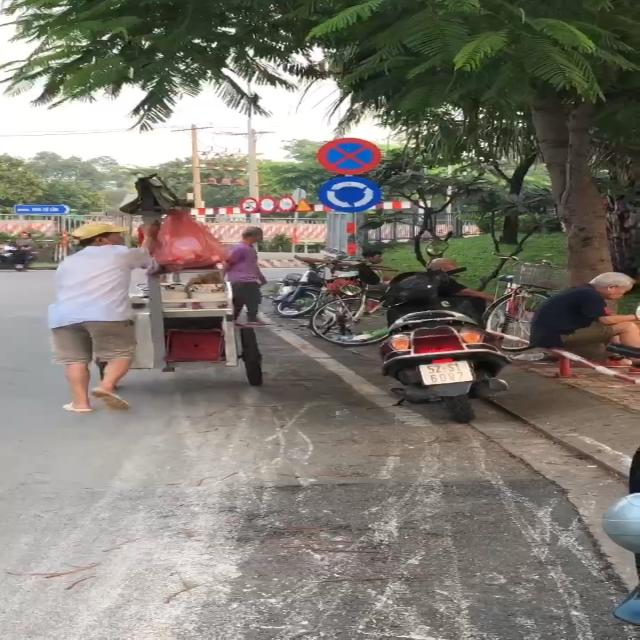Bien bao cam dung xe va do xe: (314, 136, 386, 175)
Bien bao noi giao nhau chay theo vong xuyen: (315, 176, 386, 215)
